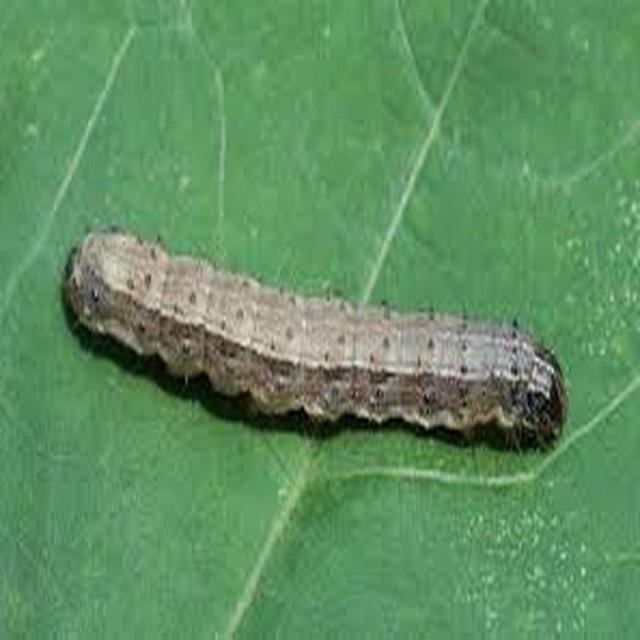gusano_cogollero: (58, 222, 572, 452)
